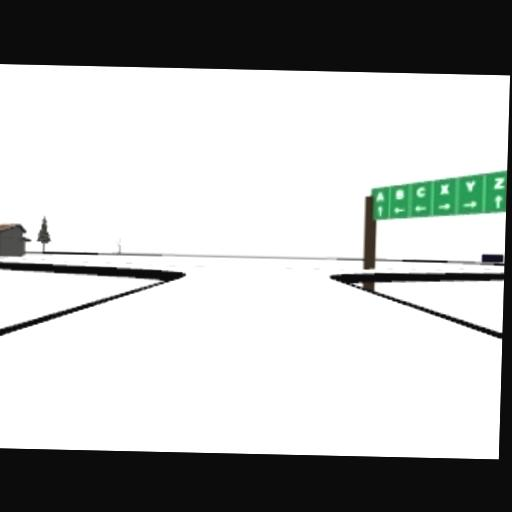A: (376, 191, 385, 202)
B: (395, 189, 406, 201)
C: (416, 185, 427, 198)
Left: (413, 204, 429, 213), (393, 207, 405, 215)
Right: (437, 202, 452, 212), (461, 201, 477, 210)
Straight: (492, 196, 503, 208), (376, 204, 384, 217)
X: (440, 182, 450, 196)
Y: (466, 180, 476, 193)
Z: (493, 177, 505, 189)
